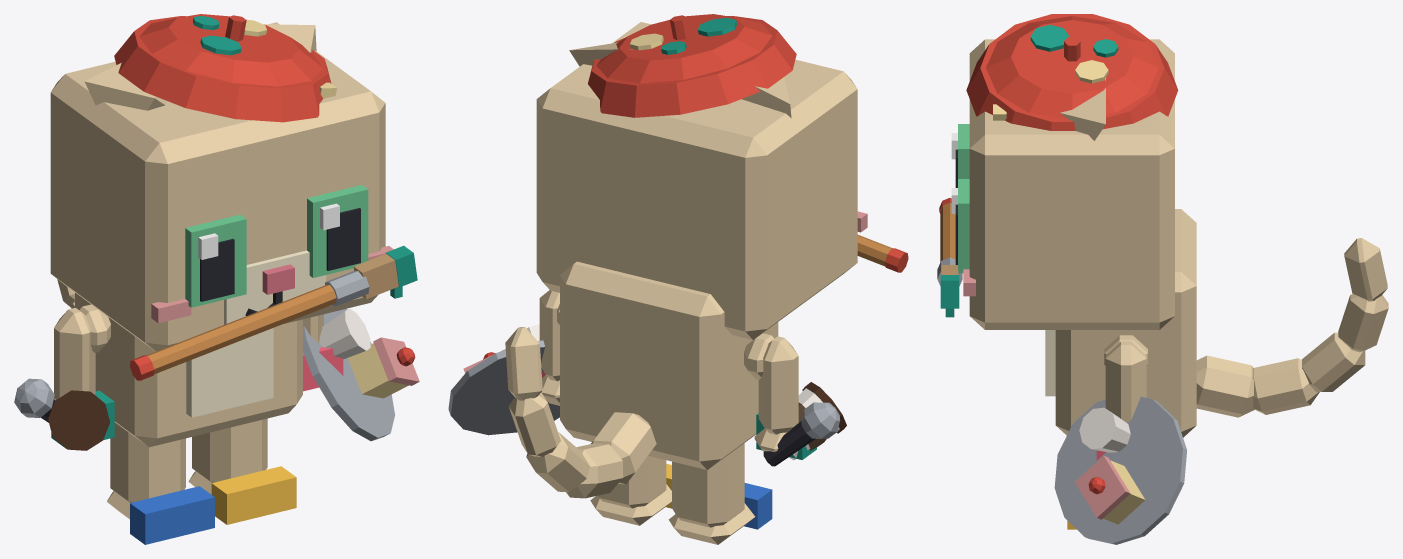
Rendered from CatCafe_Cat_Fold_Work.glb.
3 renders of one model, left to right at view 1: azimuth 30°, elevation 25°; view 2: azimuth 150°, elevation 25°; view 3: azimuth 270°, elevation 25°, orthographic. The views are drawn at different scales.
Parts seen in each view (by area): view 1: CatCafe_Cat_Fold_Work_Head, CatCafe_Cat_Fold_Work_Body, CatCafe_Cat_Fold_Work_Prop, CatCafe_Cat_Fold_Work_Held_Waiter, CatCafe_Cat_Fold_Work_LegB2, CatCafe_Cat_Fold_Work_Prop2, CatCafe_Cat_Fold_Work_LegB1, CatCafe_Cat_Fold_Work_Eye2, CatCafe_Cat_Fold_Work_Eye1, CatCafe_Cat_Fold_Work_LegF2, CatCafe_Cat_Fold_Work_Held_Barista, CatCafe_Cat_Fold_Work_EarR (+3 smaller); view 2: CatCafe_Cat_Fold_Work_Head, CatCafe_Cat_Fold_Work_Body, CatCafe_Cat_Fold_Work_Prop, CatCafe_Cat_Fold_Work_Tail, CatCafe_Cat_Fold_Work_LegB2, CatCafe_Cat_Fold_Work_Held_Waiter, CatCafe_Cat_Fold_Work_LegF2, CatCafe_Cat_Fold_Work_LegB1, CatCafe_Cat_Fold_Work_Held_Entertainer, CatCafe_Cat_Fold_Work_LegF1, CatCafe_Cat_Fold_Work_Prop2, CatCafe_Cat_Fold_Work_Held_Barista (+2 smaller); view 3: CatCafe_Cat_Fold_Work_Head, CatCafe_Cat_Fold_Work_Prop, CatCafe_Cat_Fold_Work_Held_Waiter, CatCafe_Cat_Fold_Work_Body, CatCafe_Cat_Fold_Work_Tail, CatCafe_Cat_Fold_Work_LegF1, CatCafe_Cat_Fold_Work_Prop2, CatCafe_Cat_Fold_Work_Eye1, CatCafe_Cat_Fold_Work_EarL, CatCafe_Cat_Fold_Work_Eye2.
Part boxes in pixels (left/top/right/bottom): CatCafe_Cat_Fold_Work_Head: left=50, top=22, right=393, bottom=351; CatCafe_Cat_Fold_Work_Body: left=75, top=293, right=302, bottom=447; CatCafe_Cat_Fold_Work_Prop: left=114, top=14, right=336, bottom=122; CatCafe_Cat_Fold_Work_Held_Waiter: left=303, top=308, right=419, bottom=441; CatCafe_Cat_Fold_Work_LegB2: left=107, top=422, right=214, bottom=544; CatCafe_Cat_Fold_Work_Prop2: left=130, top=245, right=417, bottom=380; CatCafe_Cat_Fold_Work_LegB1: left=188, top=418, right=296, bottom=524; CatCafe_Cat_Fold_Work_Eye2: left=185, top=214, right=246, bottom=307; CatCafe_Cat_Fold_Work_Eye1: left=307, top=185, right=368, bottom=277; CatCafe_Cat_Fold_Work_LegF2: left=51, top=307, right=114, bottom=448; CatCafe_Cat_Fold_Work_Held_Barista: left=48, top=390, right=110, bottom=450; CatCafe_Cat_Fold_Work_EarR: left=84, top=63, right=167, bottom=110; CatCafe_Cat_Fold_Work_Head: left=536, top=22, right=867, bottom=339; CatCafe_Cat_Fold_Work_Body: left=557, top=261, right=778, bottom=469; CatCafe_Cat_Fold_Work_Prop: left=588, top=14, right=796, bottom=117; CatCafe_Cat_Fold_Work_Tail: left=505, top=327, right=656, bottom=498; CatCafe_Cat_Fold_Work_LegB2: left=668, top=443, right=772, bottom=544; CatCafe_Cat_Fold_Work_Held_Waiter: left=448, top=324, right=559, bottom=435; CatCafe_Cat_Fold_Work_LegF2: left=754, top=336, right=816, bottom=459; CatCafe_Cat_Fold_Work_LegB1: left=590, top=456, right=671, bottom=525; CatCafe_Cat_Fold_Work_Held_Entertainer: left=763, top=402, right=840, bottom=466; CatCafe_Cat_Fold_Work_LegF1: left=539, top=290, right=559, bottom=405; CatCafe_Cat_Fold_Work_Prop2: left=857, top=235, right=908, bottom=272; CatCafe_Cat_Fold_Work_Held_Barista: left=789, top=382, right=846, bottom=460; CatCafe_Cat_Fold_Work_Head: left=963, top=39, right=1174, bottom=329; CatCafe_Cat_Fold_Work_Prop: left=966, top=14, right=1178, bottom=130; CatCafe_Cat_Fold_Work_Held_Waiter: left=1054, top=396, right=1187, bottom=544; CatCafe_Cat_Fold_Work_Body: left=1045, top=209, right=1196, bottom=437; CatCafe_Cat_Fold_Work_Tail: left=1196, top=238, right=1388, bottom=417; CatCafe_Cat_Fold_Work_LegF1: left=1096, top=341, right=1146, bottom=460; CatCafe_Cat_Fold_Work_Prop2: left=937, top=198, right=962, bottom=317; CatCafe_Cat_Fold_Work_Eye1: left=951, top=179, right=969, bottom=273; CatCafe_Cat_Fold_Work_EarL: left=1060, top=77, right=1105, bottom=140; CatCafe_Cat_Fold_Work_Eye2: left=951, top=124, right=969, bottom=187.
Size of the model in its own units: 1.53 by 1.9 by 1.67.
1 material, 1 textured.
